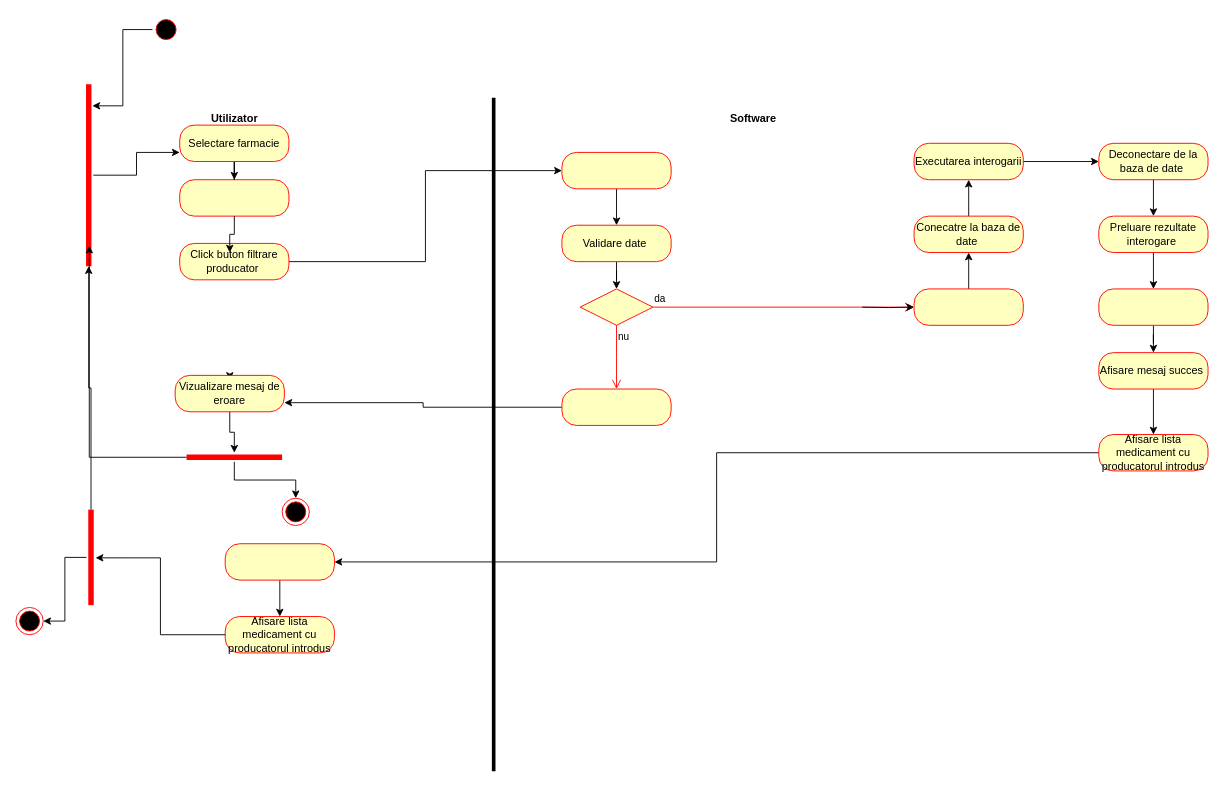
Image size: 1224x789. Some labels were removed from this diagram. Here are the shapes that lost their labels. From the top down, the centre of each, then its label:
At [616,170]: "Preluare date".
At [234,197]: "Introducere producator".
At [968,306]: "Creare interogare".
At [1153,306]: "Analiza rezultat".
At [616,406]: "Afiseaza mesaj de eroare".
At [279,561]: "Afisare mesaj de succes".
